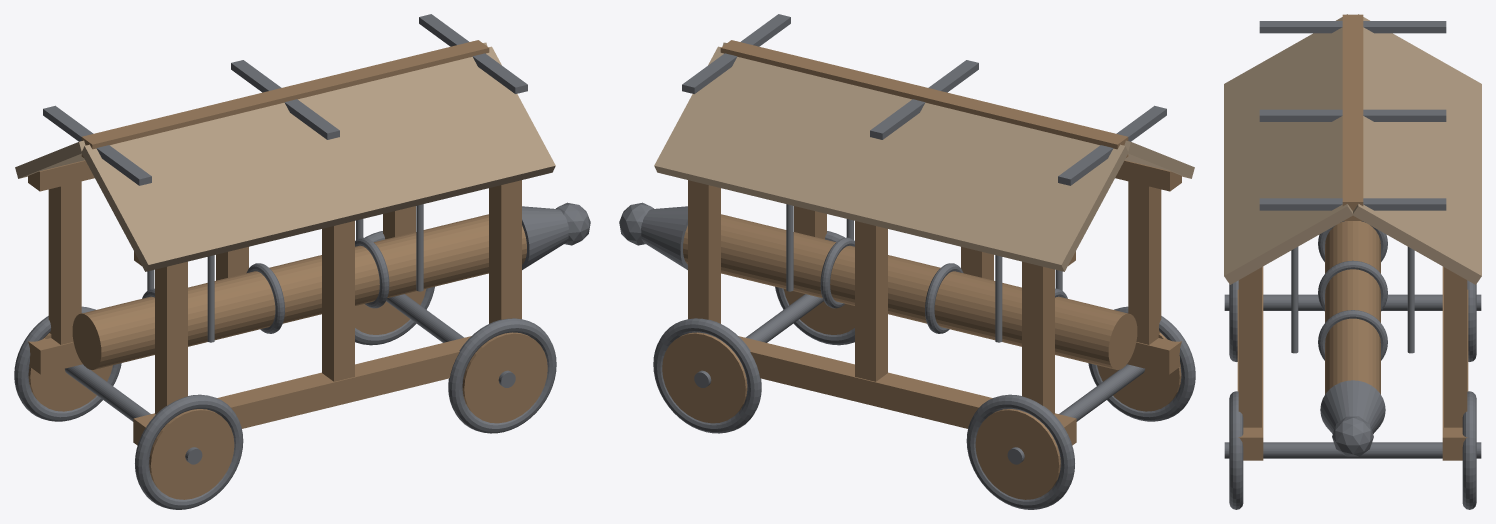
File: battering_ram.glb
The picture shows the model from 3 angles, left to right: view 1: azimuth 30°, elevation 25°; view 2: azimuth 150°, elevation 25°; view 3: azimuth 270°, elevation 25°; orthographic projection. The views are drawn at different scales.
Parts seen in each view (by area): view 1: Cube.011, Cylinder.010, Cube, Cube.010, Cylinder, Cylinder.002, Cube.003, Cube.004, Cube.002, Cube.006, Torus, Torus.002 (+20 smaller); view 2: Cube.012, Cylinder.010, Cube.001, Cube.010, Cylinder.001, Cylinder.003, Cube.002, Cube.005, Cube.003, Cube.007, Torus.001, Torus.003 (+20 smaller); view 3: Cube.011, Cube.012, Cylinder.010, Cube.010, Cube.006, Cube.007, Cylinder.005, Cone, Cube.014, Cube.015, Cube.013, Cylinder.004 (+12 smaller).
Boxes of the visible parts, <box> form: Cube.011: <box>81,46,555,271</box>; Cylinder.010: <box>72,214,526,369</box>; Cube: <box>133,336,471,445</box>; Cube.010: <box>81,40,489,157</box>; Cylinder: <box>149,409,234,499</box>; Cylinder.002: <box>462,332,547,423</box>; Cube.003: <box>48,172,81,344</box>; Cube.004: <box>322,221,354,381</box>; Cube.002: <box>155,261,187,414</box>; Cube.006: <box>489,180,521,323</box>; Torus: <box>135,394,243,509</box>; Torus.002: <box>448,318,556,433</box>; Cube.012: <box>654,46,1128,271</box>; Cylinder.010: <box>683,214,1137,369</box>; Cube.001: <box>738,336,1076,445</box>; Cube.010: <box>720,40,1128,157</box>; Cylinder.001: <box>975,409,1060,499</box>; Cylinder.003: <box>662,332,747,423</box>; Cube.002: <box>1128,171,1161,344</box>; Cube.005: <box>855,221,887,381</box>; Cube.003: <box>1022,261,1054,414</box>; Cube.007: <box>688,180,720,323</box>; Torus.001: <box>966,394,1074,509</box>; Torus.003: <box>653,318,761,433</box>; Cube.011: <box>1224,14,1353,284</box>; Cube.012: <box>1352,14,1481,284</box>; Cylinder.010: <box>1325,221,1380,394</box>; Cube.010: <box>1342,14,1363,220</box>; Cube.006: <box>1238,284,1261,427</box>; Cube.007: <box>1444,284,1467,427</box>; Cylinder.005: <box>1224,442,1481,458</box>; Cone: <box>1320,380,1385,433</box>; Cube.014: <box>1259,109,1446,121</box>; Cube.015: <box>1259,198,1446,210</box>; Cube.013: <box>1259,21,1446,33</box>; Cylinder.004: <box>1224,294,1481,310</box>.
Bounding box in the file's own units: 4.9 × 3.05 × 2.21.
